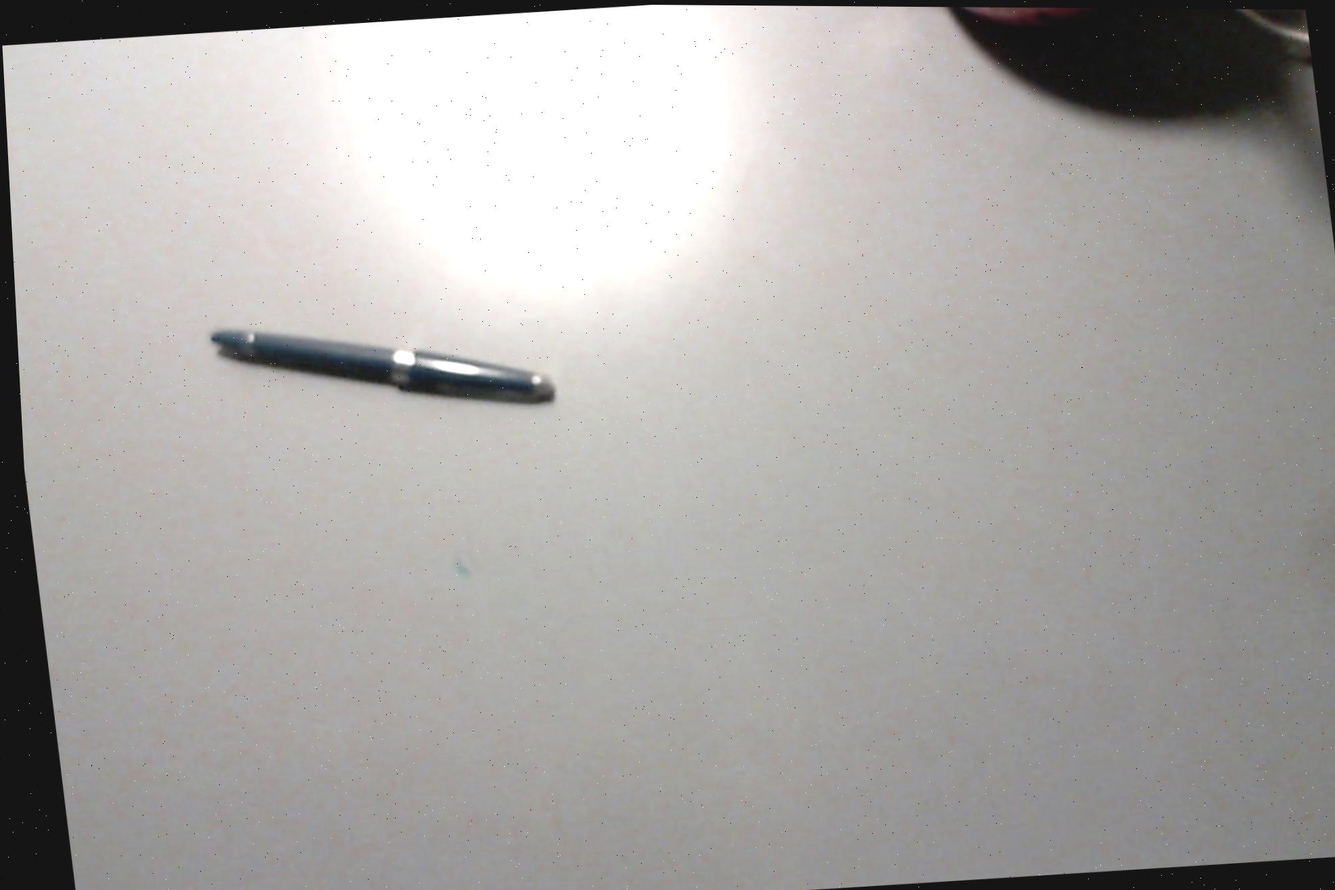pen-pencil: (210, 330, 557, 405)
